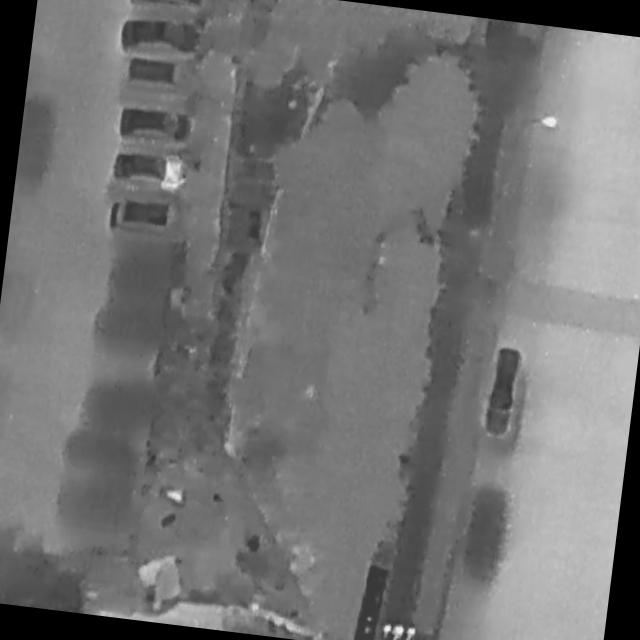person: (391, 623, 404, 640), (381, 623, 392, 640), (405, 626, 416, 640)
